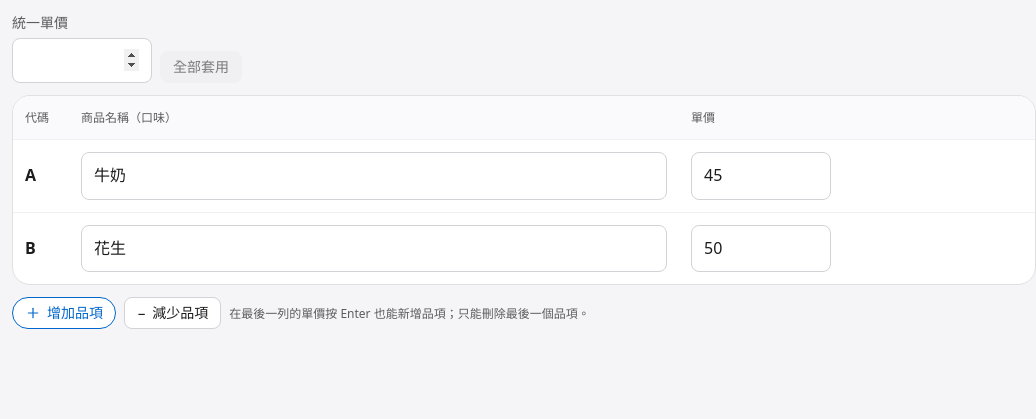
Scenario: ItemTable › adds one row from Enter in the last price, inheriting that price, and focuses its name
The image size is (1036, 419).
Click the number field named "品項 B 單價": [761, 248] box x1=691 y1=225 x2=831 y2=272
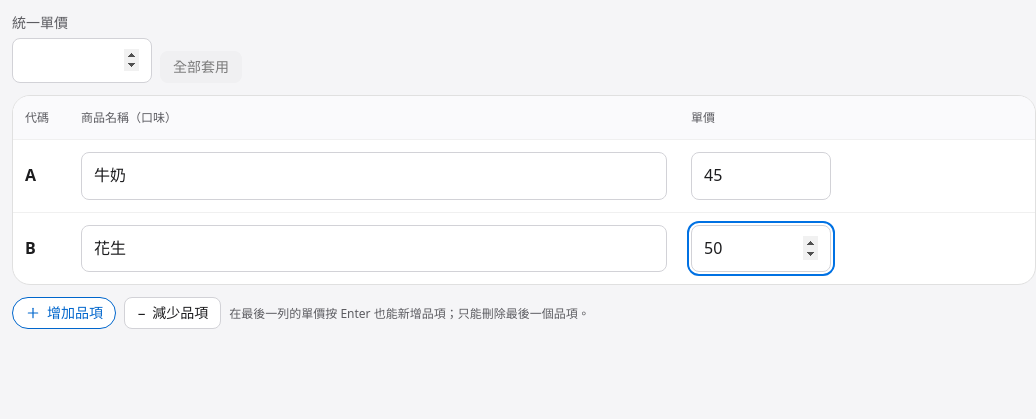
Press Enter
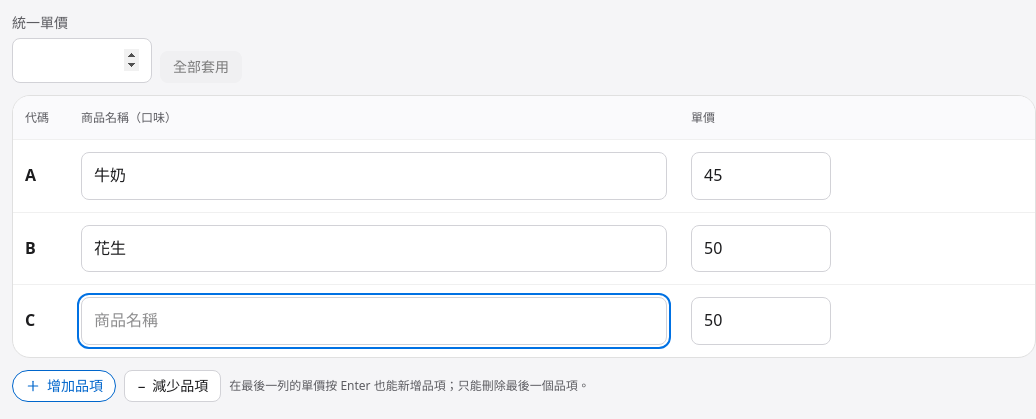
Check: the column heading "C" is shown, box x1=13 y1=285 x2=69 y2=357
Check: the number field named "品項 C 單價" holds "50", box x1=691 y1=297 x2=831 y2=345
Check: the field named "品項 C 商品名稱（口味）" is empty, box x1=81 y1=297 x2=667 y2=345
